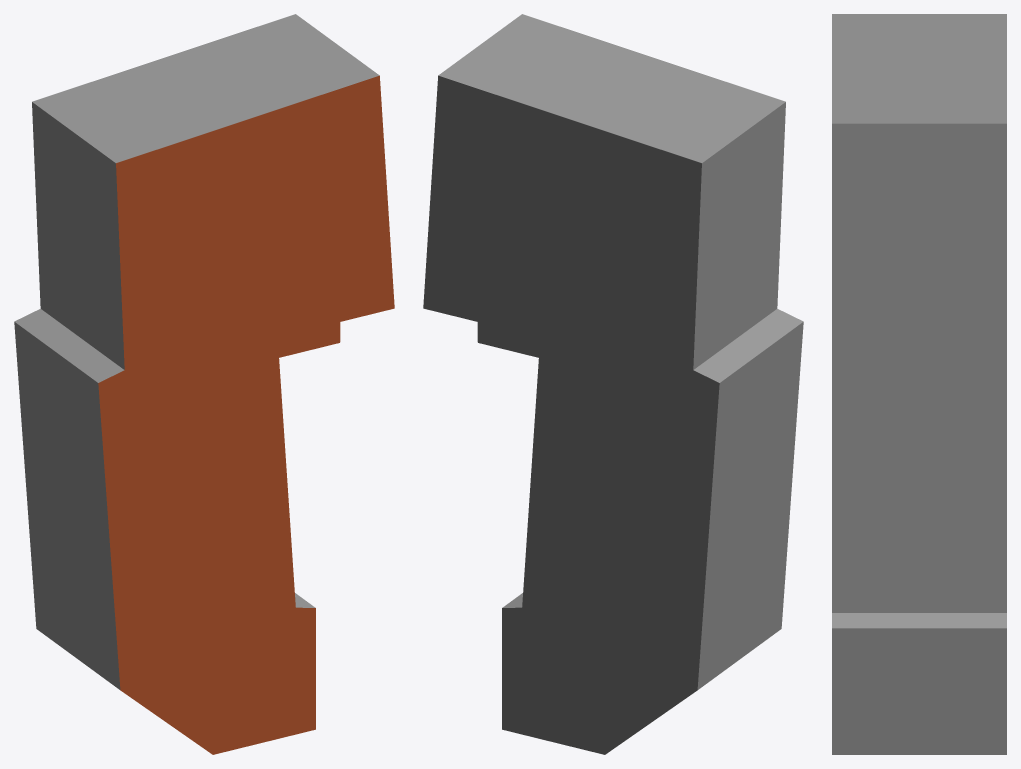
The model's file is construction_5105_assumed_A_Casa_h6m.obj.
3 views of the same model, side by side, from view 1: azimuth 30°, elevation 25°; view 2: azimuth 150°, elevation 25°; view 3: azimuth 270°, elevation 25° (orthographic). The views are drawn at different scales.
Visible parts, largest first — view 1: construction_5105_assumed_A_Casa; view 2: construction_5105_assumed_A_Casa; view 3: construction_5105_assumed_A_Casa.
Part boxes in pixels (<box>): construction_5105_assumed_A_Casa: <box>14,14,394,754</box>; construction_5105_assumed_A_Casa: <box>423,14,803,754</box>; construction_5105_assumed_A_Casa: <box>832,14,1006,754</box>.
Bounding box in the file's own units: 12.21 × 25.15 × 6.
